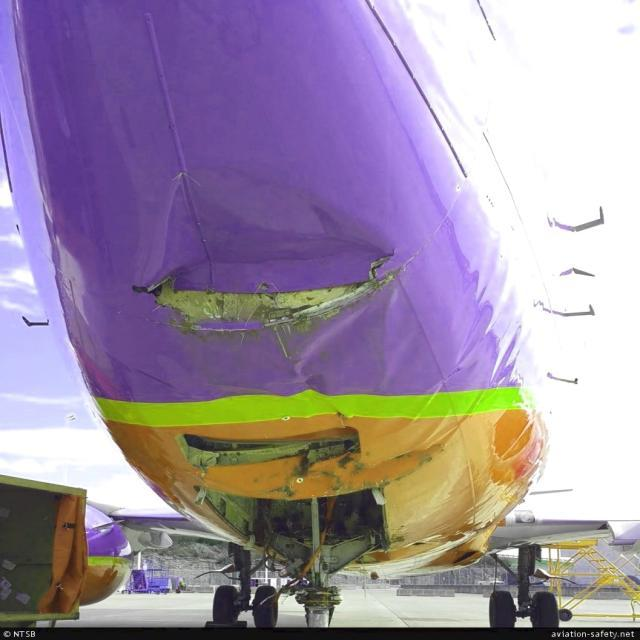dent: (155, 173, 402, 286), (289, 308, 374, 378)
